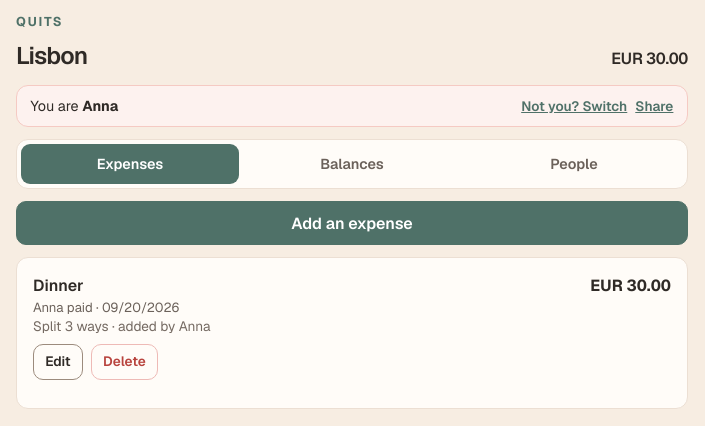
Test: editing and deleting — SPEC §7.15 and §7.16 › deletes an expense
Step 1. Click the button "Delete" → (124, 362), box [91, 344, 158, 380]
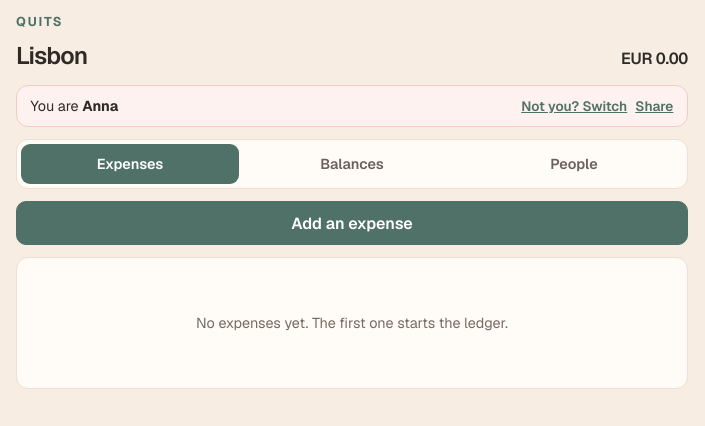
Check: the text "Dinner" is gone
